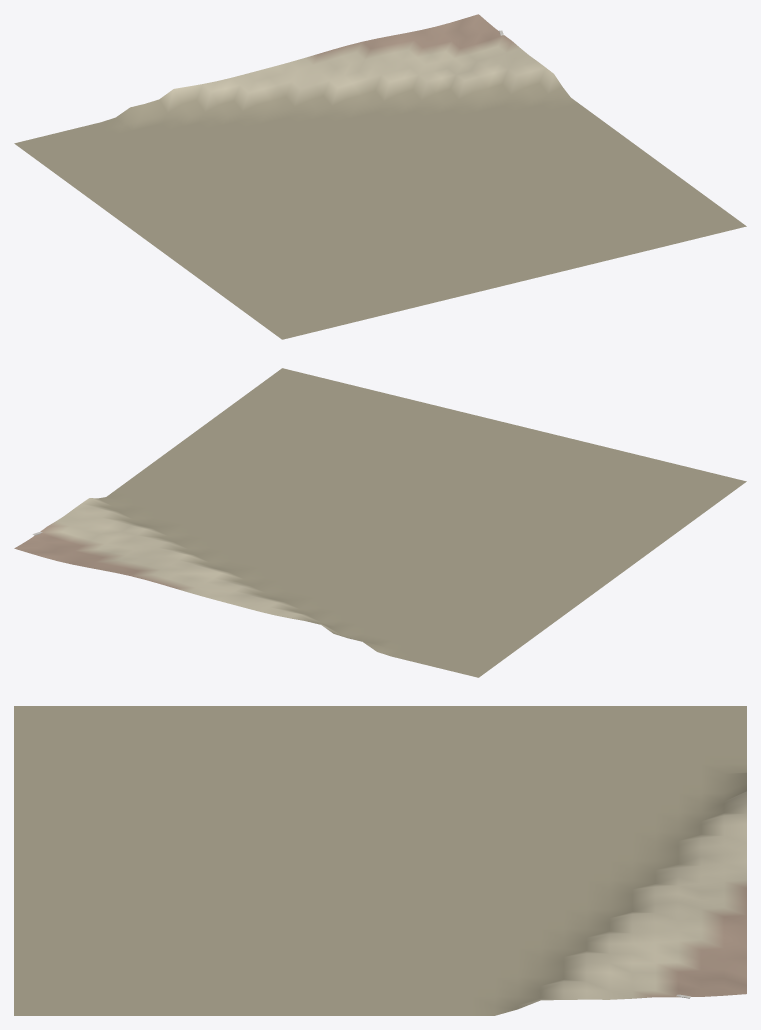
3 views of the same model, one above another, from view 1: azimuth 30°, elevation 25°; view 2: azimuth 150°, elevation 25°; view 3: azimuth 270°, elevation 25° (orthographic). The views are drawn at different scales.
Visible parts, largest first — view 1: Terrain-col; view 2: Terrain-col; view 3: Terrain-col.
Part boxes in pixels (x1=…): Terrain-col: x1=14, y1=14, x2=746, y2=339; Terrain-col: x1=14, y1=368, x2=746, y2=677; Terrain-col: x1=14, y1=706, x2=746, y2=1015.
Size of the model in its own units: 257 by 8.83 by 256.
